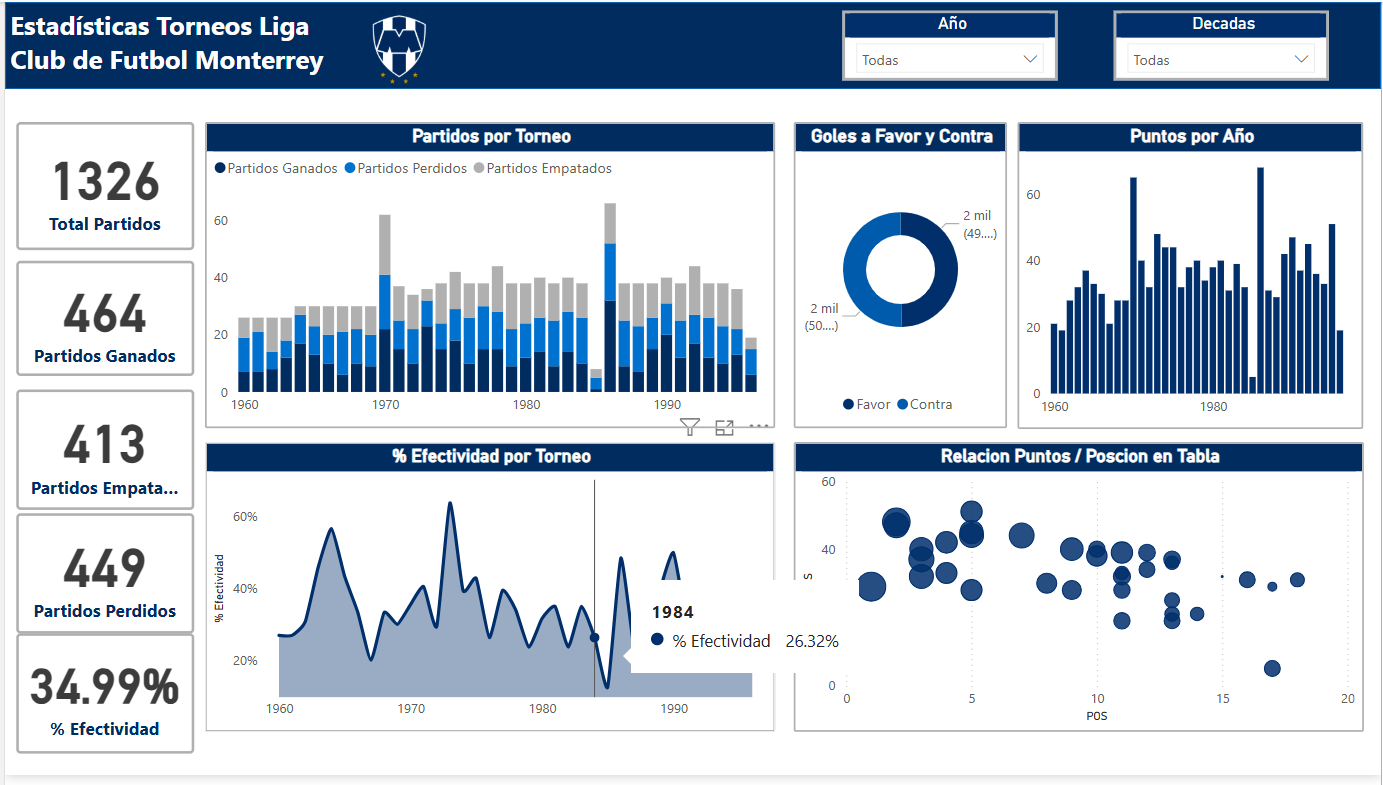

The dashboard page shown, as its layout file describes it:
{"tool":"powerbi","page":{"name":"Liga","canvas":[1280,720],"ordinal":1},"visuals":[{"type":"shape","box":[0,0,1280,81.2],"z":0},{"type":"slicer","title":"Año","fields":{"Values":["Estadisticas_Rayados_Todo.Año"]},"box":[779.5,8.6,199.6,65],"z":1000},{"type":"slicer","title":"Decadas","fields":{"Values":["Estadisticas_Rayados_Todo.Decadas"]},"box":[1031.6,8.6,199.6,65],"z":2000},{"type":"card","title":"Cantidad Partidos","fields":{"Values":["Medidas.Cantidad Total Partidos por Año"]},"box":[10.5,111.8,165.3,119.4],"z":3000},{"type":"card","title":"Partidos Ganados","fields":{"Values":["Medidas.Cantidad Total Partidos Ganados por Año"]},"box":[10.5,240.7,165.3,107],"z":4000},{"type":"card","title":"Partidos Perdidos","fields":{"Values":["Medidas.Cantidad Total Partidos Empatados por Año"]},"box":[10.5,360.1,165.3,111.8],"z":5000},{"type":"card","title":"Partidos Empatados","fields":{"Values":["Medidas.Cantidad Total Partidos perdidos por Año"]},"box":[10.5,475.7,165.3,111.8],"z":6000},{"type":"card","title":"% Efectividad","fields":{"Values":["Medidas.% Efectividad por Año"]},"box":[10.5,587.5,165.3,111.8],"z":7000},{"type":"areaChart","title":"% Efectividad por Torneo","fields":{"Category":["Estadisticas_Rayados_Todo.Año"],"Y":["Medidas.% Efectividad por Año"]},"box":[186.3,409.8,530.1,269.4],"z":8000},{"type":"scatterChart","title":"Relacion Puntos / Poscion en Tabla","fields":{"Size":["Medidas.Diferencia Goles por Año"],"X":["Estadisticas_Rayados_Todo.POS"],"Y":["Estadisticas_Rayados_Todo.PTS"]},"box":[733.6,409.8,530.1,269.4],"z":9000},{"type":"textbox","box":[0,0,429.9,81.2],"z":10000},{"type":"image","box":[327.6,0,78.3,81.2],"z":11000},{"type":"columnChart","title":"Partidos por Torneo","fields":{"Category":["Estadisticas_Rayados_Todo.Año"],"Y":["Medidas.Cantidad Total Partidos Ganados por Año","Medidas.Cantidad Total Partidos perdidos por Año","Medidas.Cantidad Total Partidos Empatados por Año"]},"box":[186.3,111.8,530.1,284.7],"z":12000},{"type":"donutChart","title":"Goles a Favor y Contra","fields":{"Y":["Medidas.Cantidad Goles Favor por Año","Medidas.Cantidad Goles en Contra por Año"]},"box":[733.6,111.8,198.7,284.7],"z":13000},{"type":"columnChart","title":"Puntos por Año","fields":{"Category":["Estadisticas_Rayados_Todo.Año"],"Y":["Sum(Estadisticas_Rayados_Todo.PTS)"]},"box":[941.9,111.8,321.9,285.6],"z":14000}]}

Visuals, with their boxes in screenshot pixels (x1, y1, x2, y2), scaled from the page's 1280x720 canvas onto the 1383x785 screenshot:
shape: x1=0 y1=0 x2=1382 y2=89
"Año" slicer: x1=842 y1=9 x2=1058 y2=80
"Decadas" slicer: x1=1115 y1=9 x2=1330 y2=80
"Cantidad Partidos" card: x1=11 y1=122 x2=190 y2=252
"Partidos Ganados" card: x1=11 y1=262 x2=190 y2=379
"Partidos Perdidos" card: x1=11 y1=393 x2=190 y2=515
"Partidos Empatados" card: x1=11 y1=519 x2=190 y2=641
"% Efectividad" card: x1=11 y1=641 x2=190 y2=762
"% Efectividad por Torneo" areaChart: x1=201 y1=447 x2=774 y2=741
"Relacion Puntos / Poscion en Tabla" scatterChart: x1=793 y1=447 x2=1365 y2=741
textbox: x1=0 y1=0 x2=464 y2=89
image: x1=354 y1=0 x2=439 y2=89
"Partidos por Torneo" columnChart: x1=201 y1=122 x2=774 y2=432
"Goles a Favor y Contra" donutChart: x1=793 y1=122 x2=1007 y2=432
"Puntos por Año" columnChart: x1=1018 y1=122 x2=1365 y2=433
